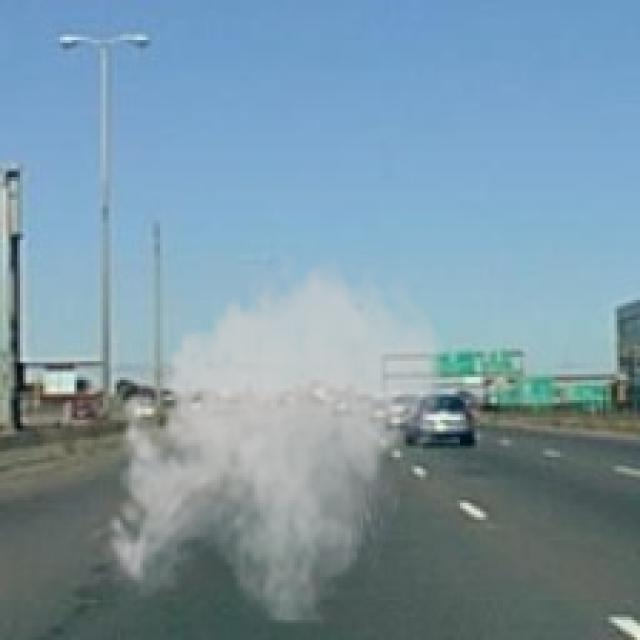Smoke: (97, 248, 452, 626)
